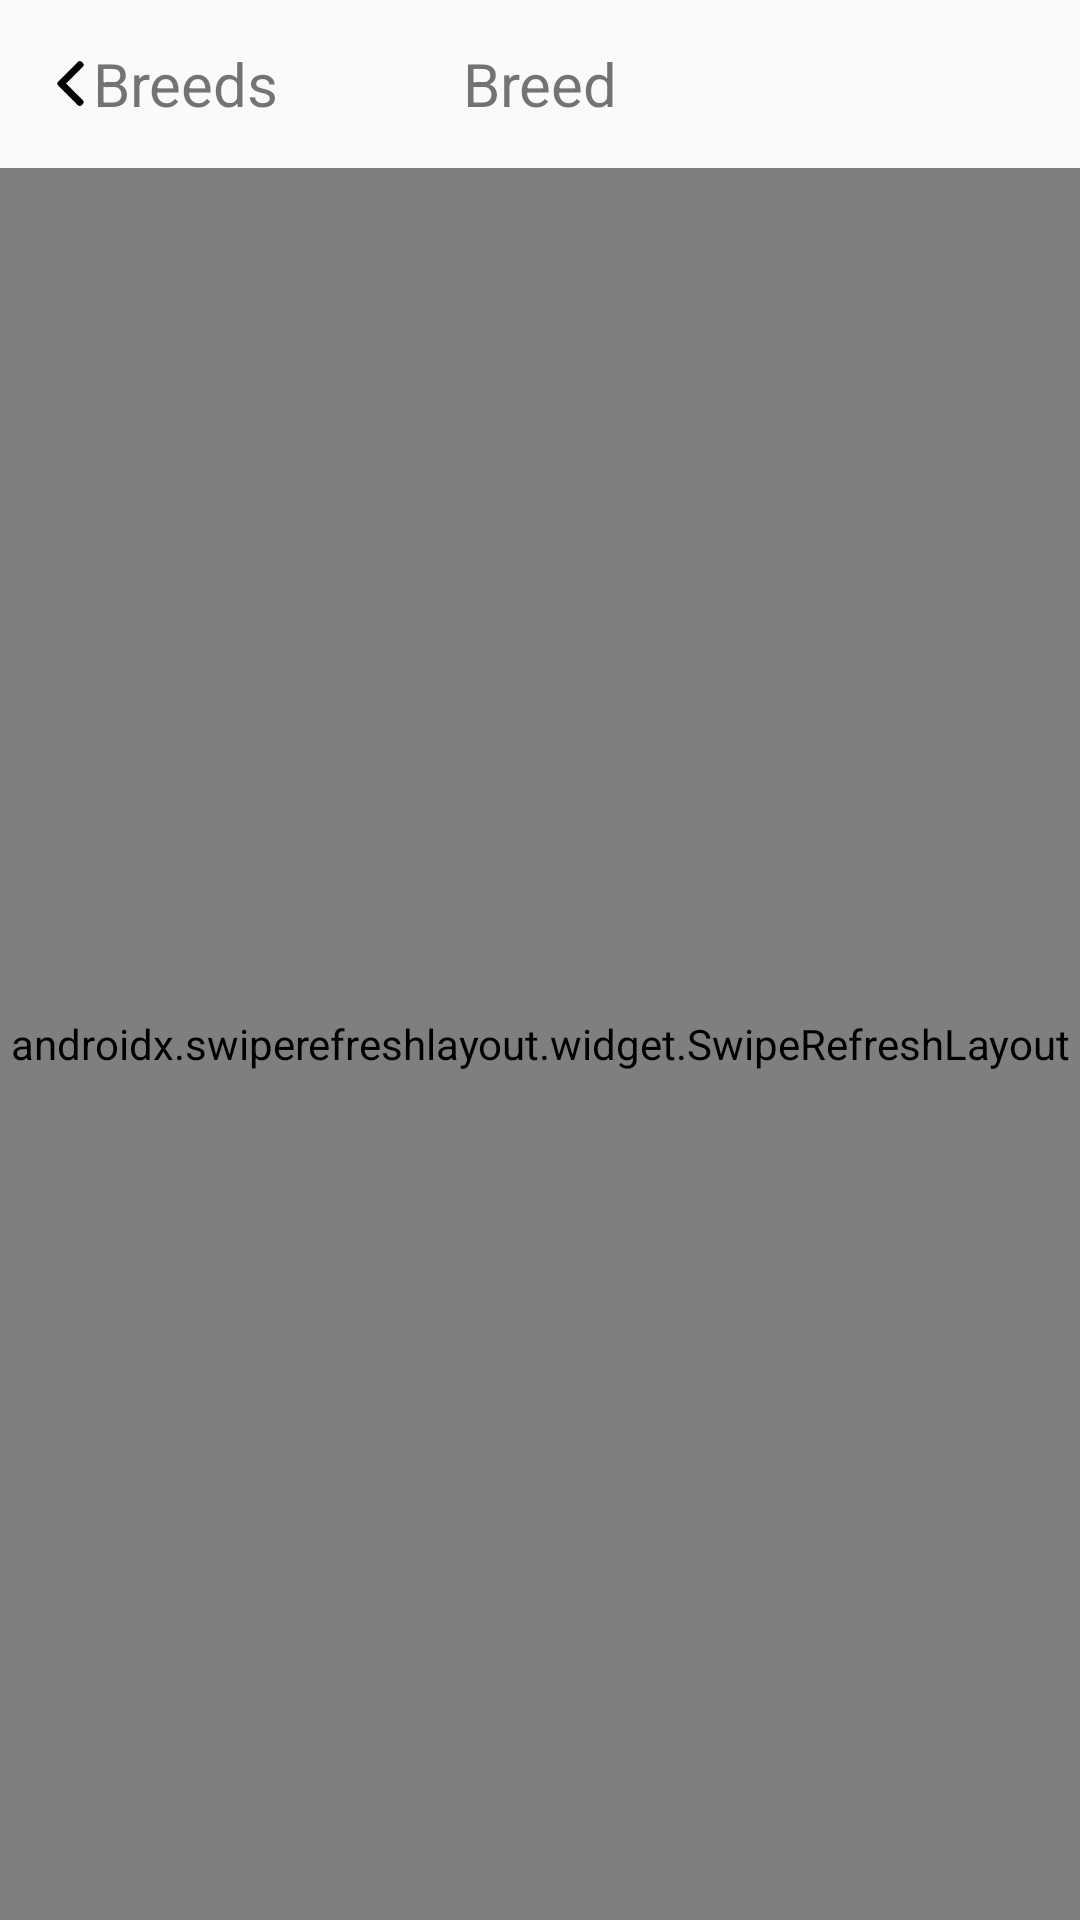

Icons on this 1080px x 1920px Android screen, each with the point to tap as [x,y]:
left arrow: [70,83]
